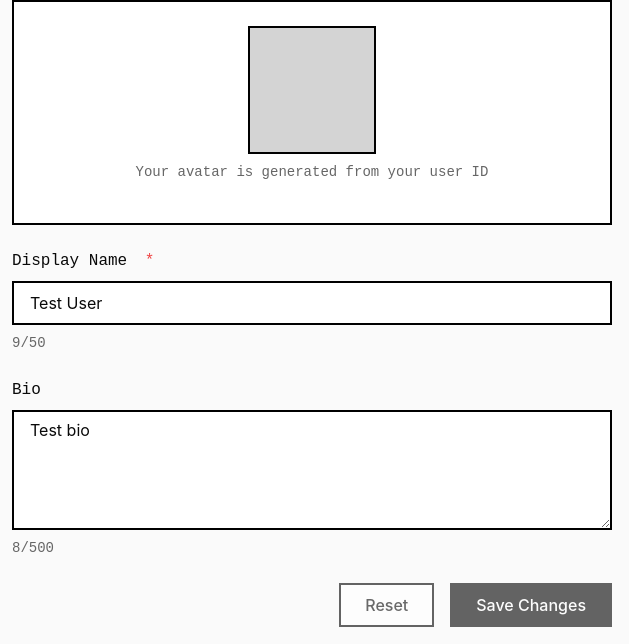
ProfileForm › Form State › enables submit button when changes are made
Replace the text in the field with id "display-name" with "New Name" at (312, 303), box left=12, top=281, right=612, bottom=325
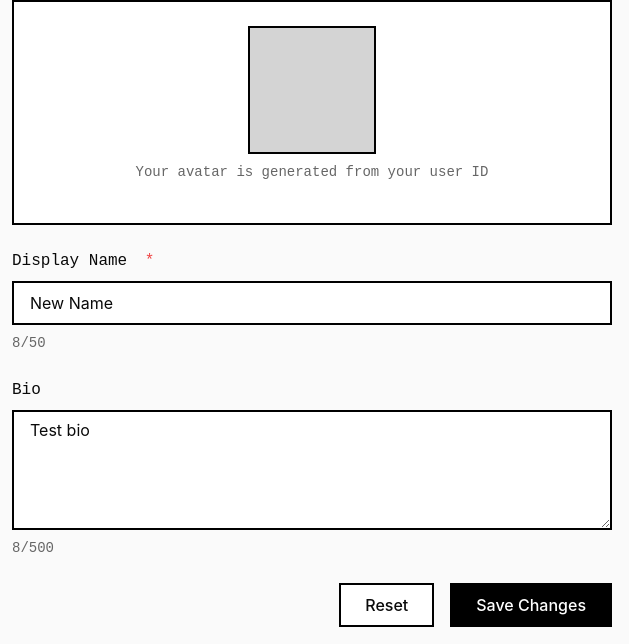
Expected: the button "Save Changes" is enabled, left=450, top=583, right=612, bottom=627
